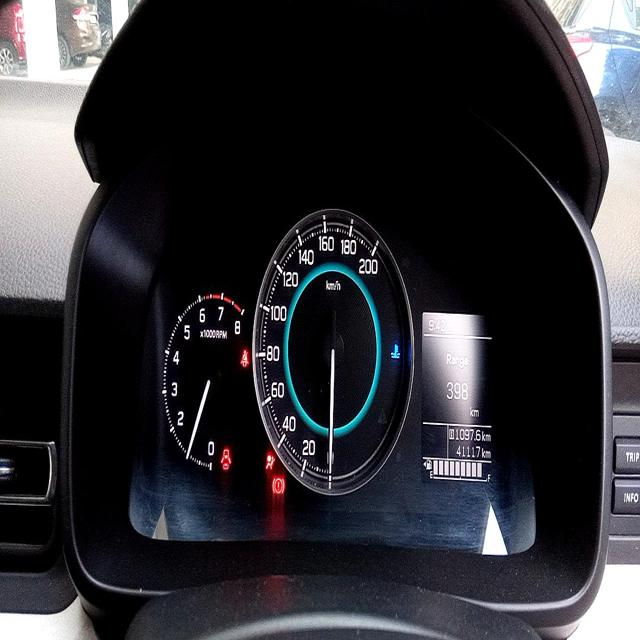odometer: (455, 442, 481, 459)
